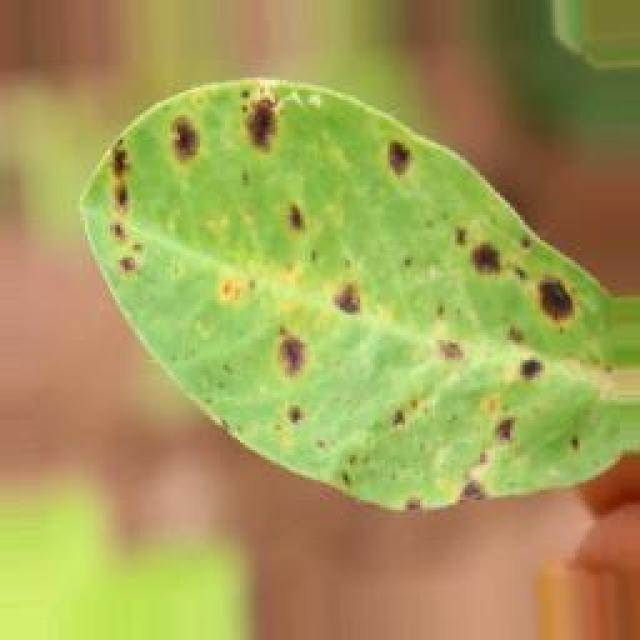Yellowish: (88, 73, 640, 518)
